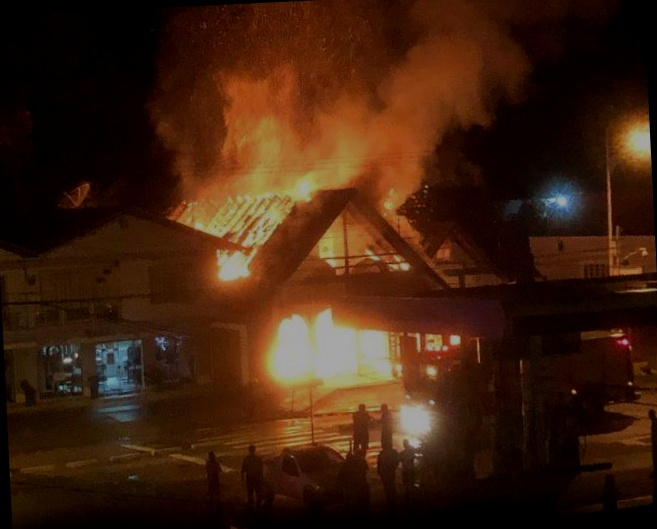fire: (245, 298, 391, 389)
